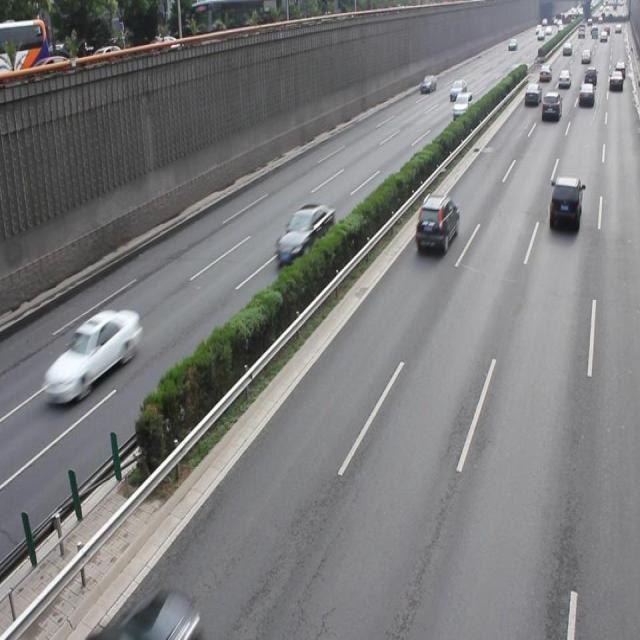car: (47, 308, 142, 402), (276, 202, 334, 265), (414, 192, 458, 252), (548, 176, 581, 233)
